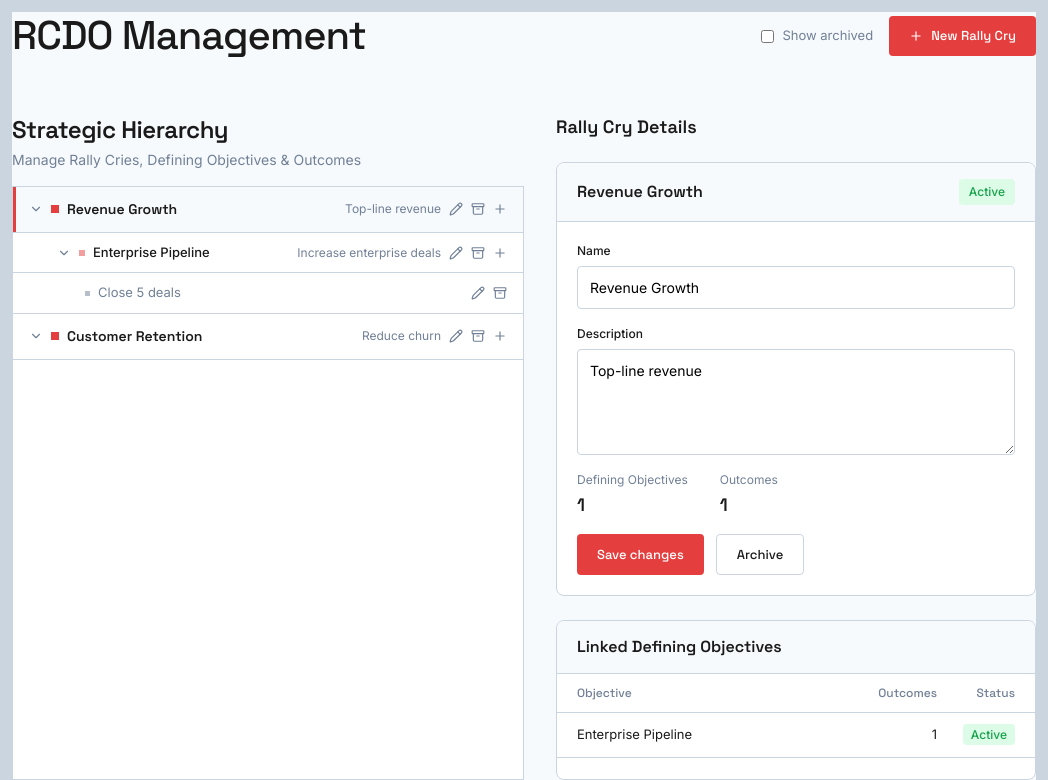
Test case: StrategyManagementPage › clicking edit shows inline inputs
This screenshot has width=1048, height=780.
Click the button with test id "edit-node-btn" next to "Top-line revenue": x=456, y=209 [449,202,463,216]
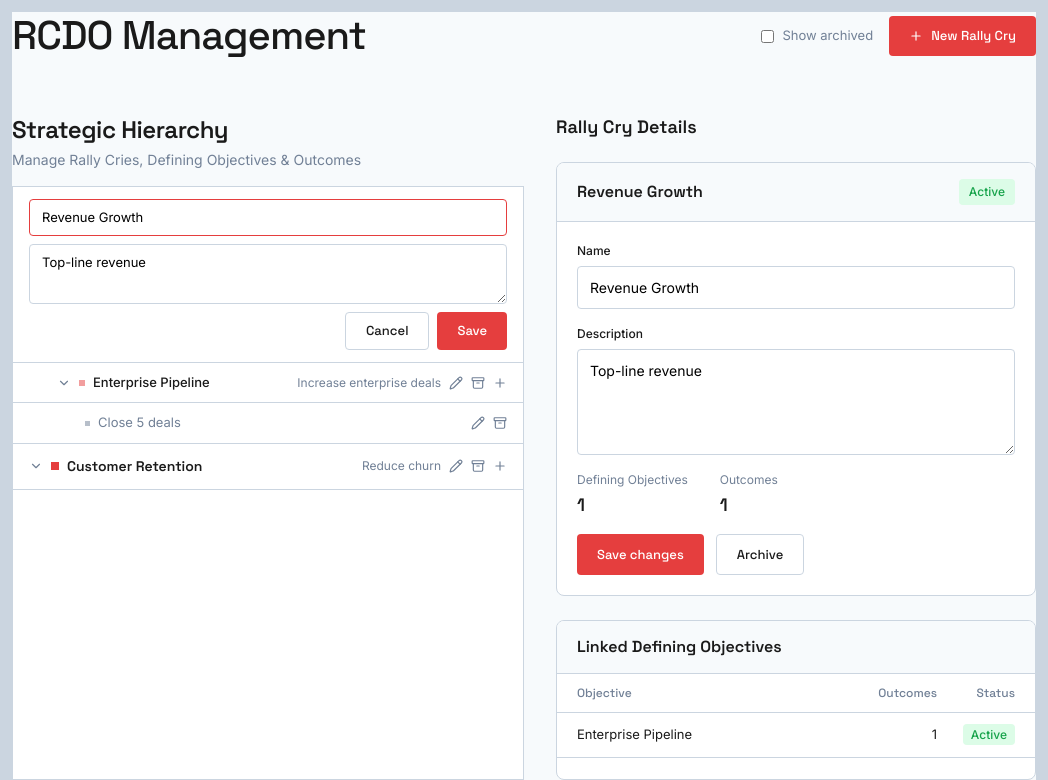
Now the field with test id "inline-edit-name" is shown, box [29,199,507,236]
